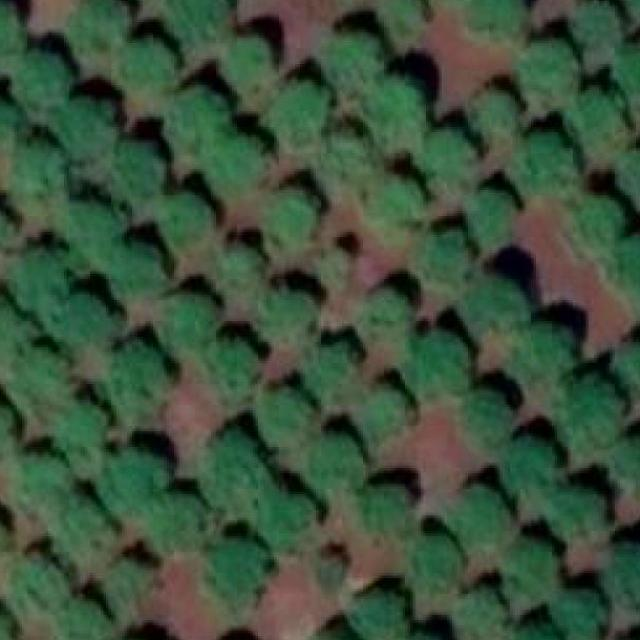Tree: (554, 374, 627, 450), (3, 344, 80, 416), (202, 429, 268, 508), (204, 534, 270, 611), (266, 78, 334, 144), (42, 494, 108, 562), (108, 337, 169, 410), (204, 130, 270, 196), (101, 452, 169, 515), (59, 90, 130, 148), (449, 478, 510, 544), (50, 293, 122, 348), (166, 83, 223, 151), (307, 431, 368, 494), (564, 85, 630, 143), (504, 433, 566, 494), (12, 445, 69, 511), (150, 491, 211, 552), (368, 72, 426, 136), (410, 332, 471, 392), (520, 38, 584, 95), (116, 36, 180, 93), (160, 287, 227, 340), (111, 134, 169, 195), (55, 200, 118, 256), (549, 481, 606, 542), (59, 403, 111, 469), (12, 141, 72, 198), (510, 536, 571, 592), (108, 237, 169, 293), (562, 193, 626, 246), (517, 319, 575, 377), (218, 33, 279, 88), (16, 552, 71, 613), (523, 127, 580, 185), (465, 279, 522, 337), (358, 382, 418, 437), (17, 251, 74, 308), (368, 169, 426, 224), (350, 588, 416, 636), (420, 227, 475, 284), (316, 127, 376, 179), (163, 193, 218, 249), (258, 387, 311, 445), (360, 482, 415, 537), (69, 0, 132, 48), (332, 27, 384, 85), (468, 188, 520, 245), (266, 190, 323, 242), (454, 586, 507, 640), (567, 0, 623, 51), (258, 492, 319, 537), (410, 536, 463, 587), (265, 286, 316, 337), (310, 340, 365, 387), (213, 337, 258, 394), (465, 387, 512, 440), (557, 586, 608, 634), (106, 555, 158, 602), (22, 50, 69, 101), (602, 232, 640, 295), (421, 130, 478, 172), (470, 0, 528, 38), (171, 0, 229, 38), (363, 290, 415, 332), (216, 240, 263, 286), (474, 88, 520, 133), (66, 599, 113, 640), (604, 541, 640, 594), (606, 436, 640, 487), (0, 0, 25, 67), (381, 0, 426, 34), (0, 295, 25, 352), (615, 345, 640, 401), (0, 402, 20, 465), (0, 99, 22, 156), (500, 622, 566, 640), (620, 38, 640, 95), (326, 248, 358, 279), (304, 625, 370, 640), (623, 148, 640, 200), (0, 209, 15, 256), (397, 630, 460, 640), (0, 606, 17, 640), (0, 513, 4, 560)
